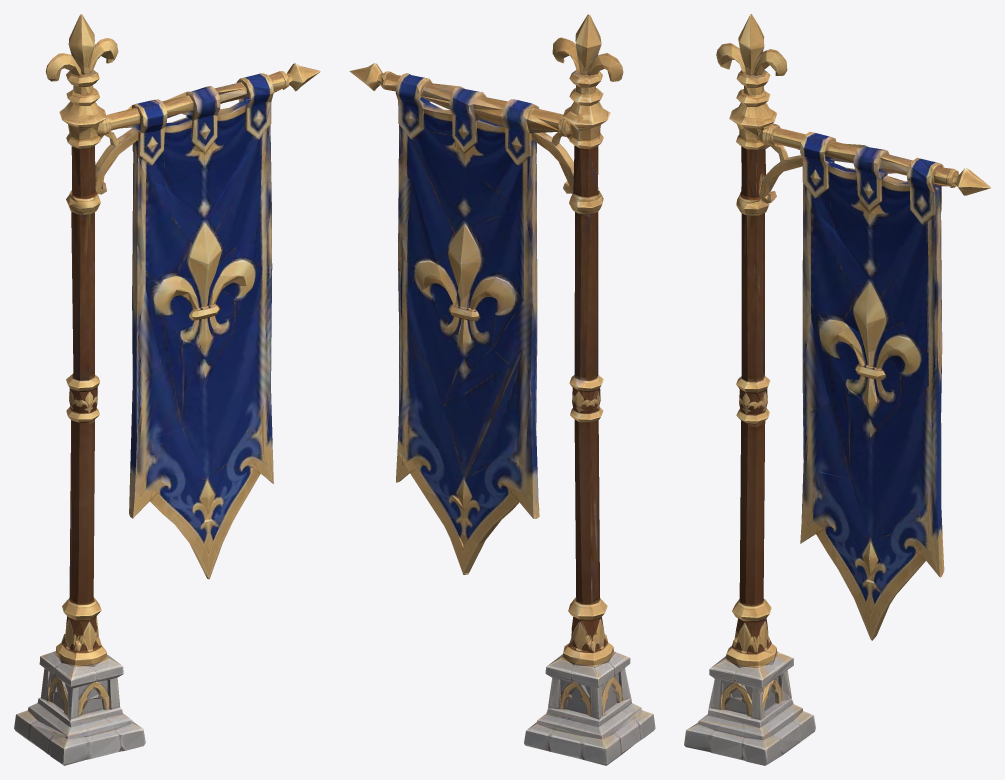
Rendered from town_banner.glb.
3 renders of one model, left to right at view 1: azimuth 30°, elevation 25°; view 2: azimuth 150°, elevation 25°; view 3: azimuth 330°, elevation 25°, orthographic.
Parts seen in each view (by area): view 1: output_unwrapped; view 2: output_unwrapped; view 3: output_unwrapped.
Boxes of the visible parts, x1=… form: output_unwrapped: x1=14, y1=14, x2=320, y2=765; output_unwrapped: x1=349, y1=14, x2=655, y2=765; output_unwrapped: x1=684, y1=14, x2=990, y2=765.
Bounding box in the file's own units: 0.7762 × 1.9 × 0.2368.
Materials: 1 (1 with a texture image).
